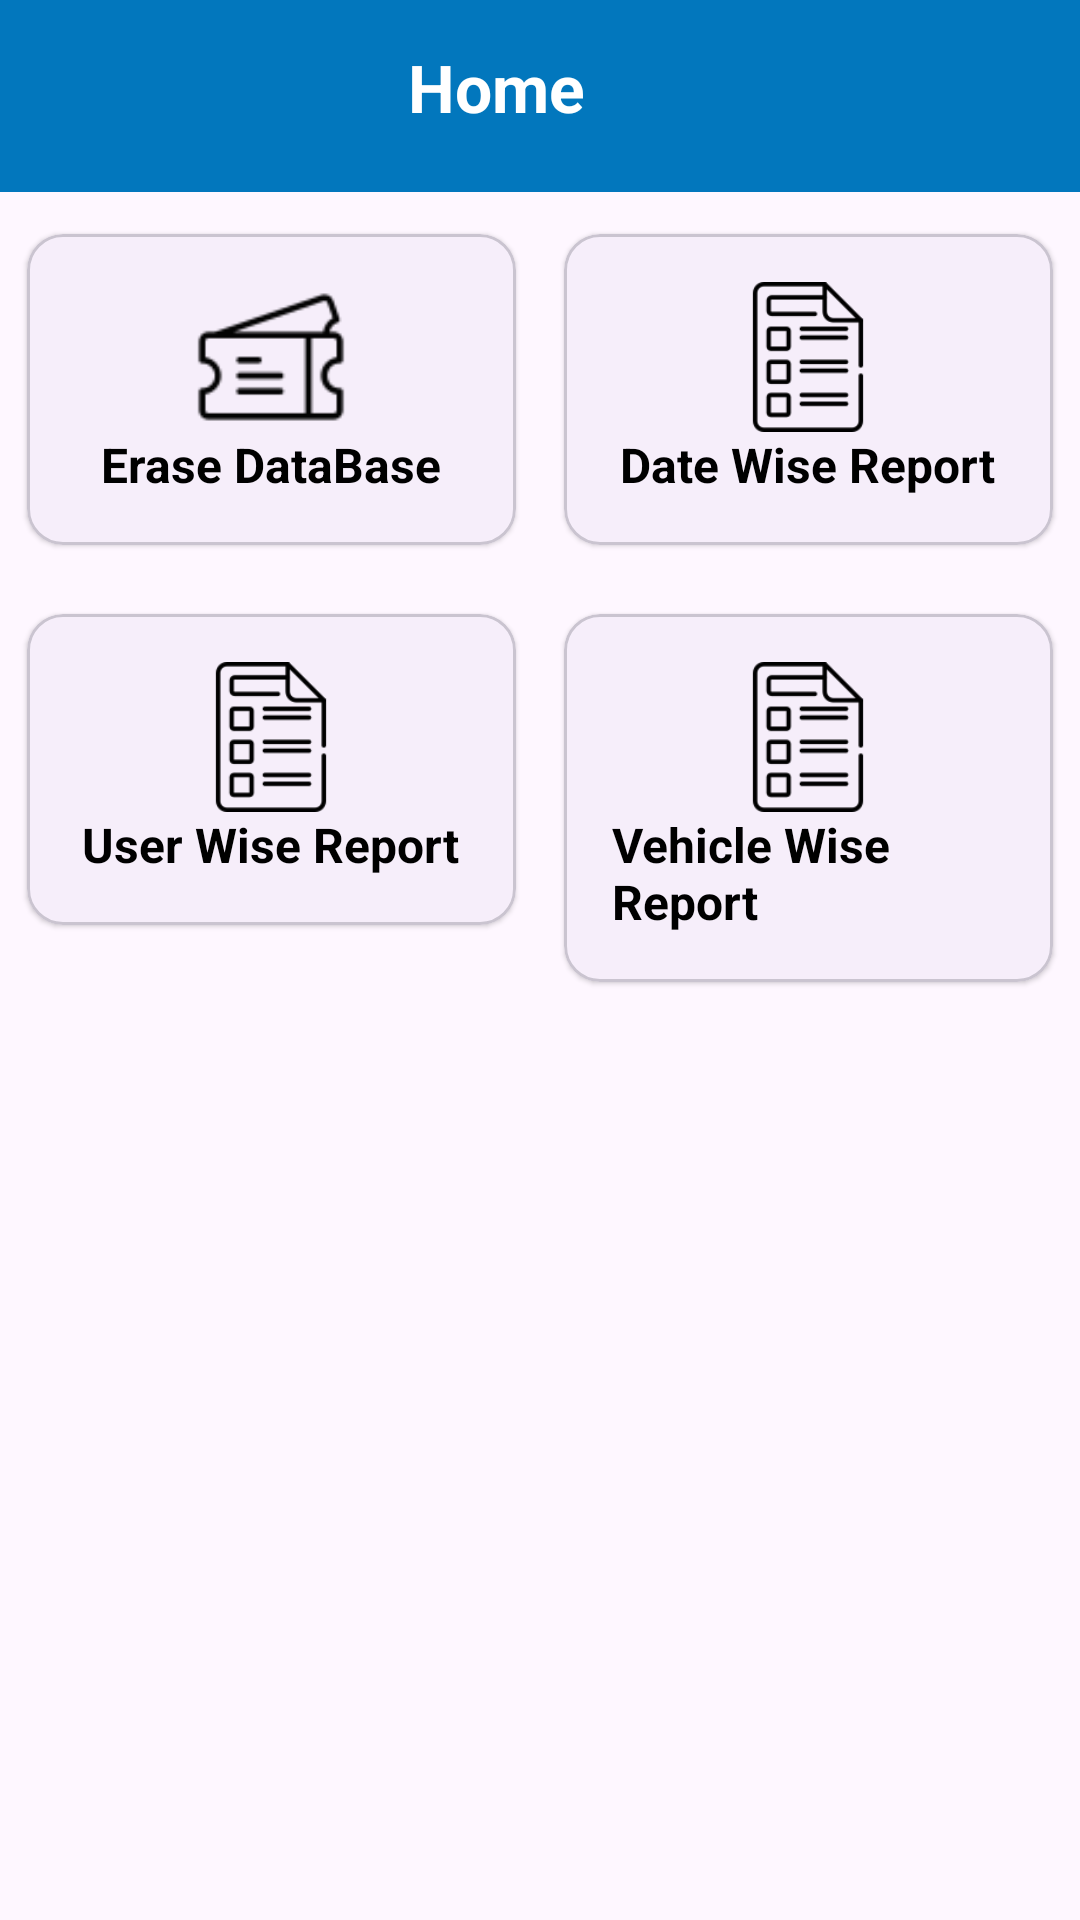

Icon click points for this 1080x1920 phone screenshot, format (x,y):
ticket: (271,357)
